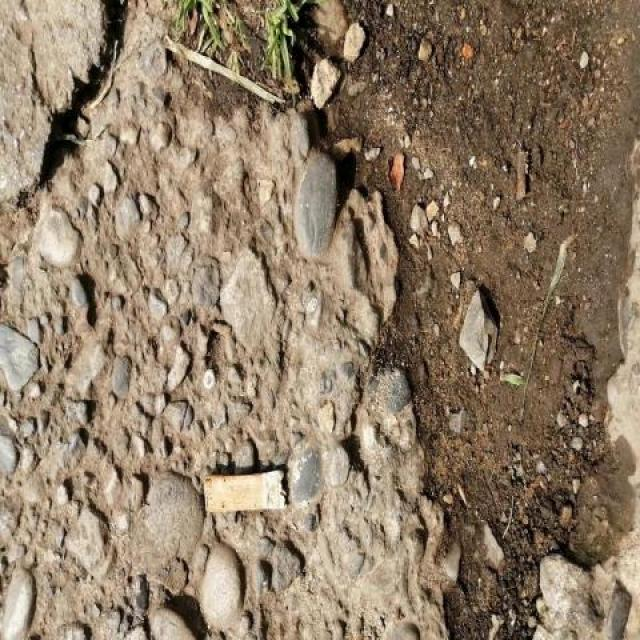non-organic waste: (200, 463, 293, 520)
